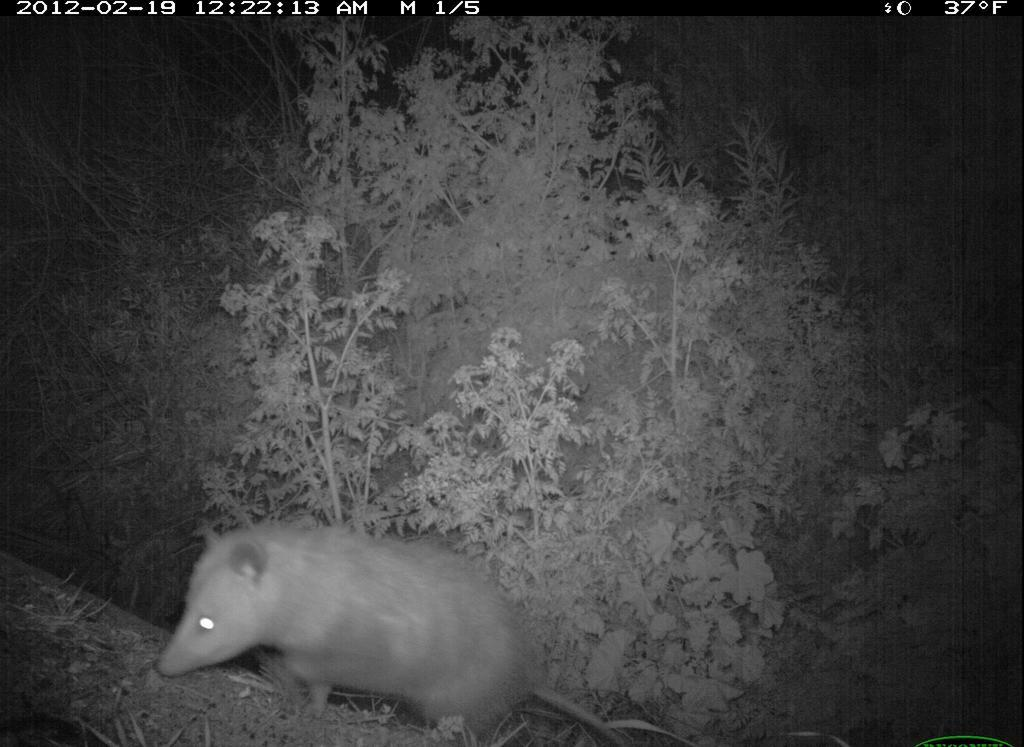opossum: (126, 506, 637, 747)
